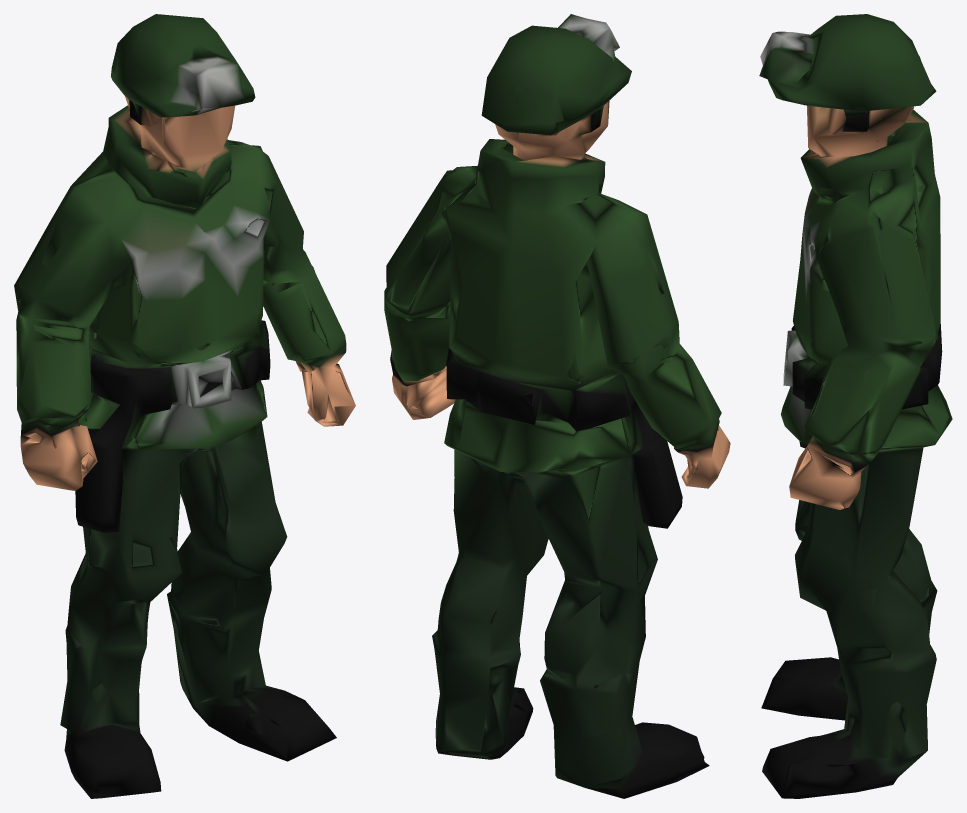
The model's file is gen3d-guard-lod0.glb.
The picture shows the model from 3 angles, left to right: view 1: azimuth 30°, elevation 25°; view 2: azimuth 150°, elevation 25°; view 3: azimuth 270°, elevation 25°; orthographic projection.
Visible parts, largest first — view 1: part_0; view 2: part_0; view 3: part_0.
Part boxes in pixels (x1,y1,x2,y2): part_0: (14,14,355,798); part_0: (384,14,730,798); part_0: (759,14,952,798).
Size of the model in its own units: 0.4692 by 1 by 0.2439.
